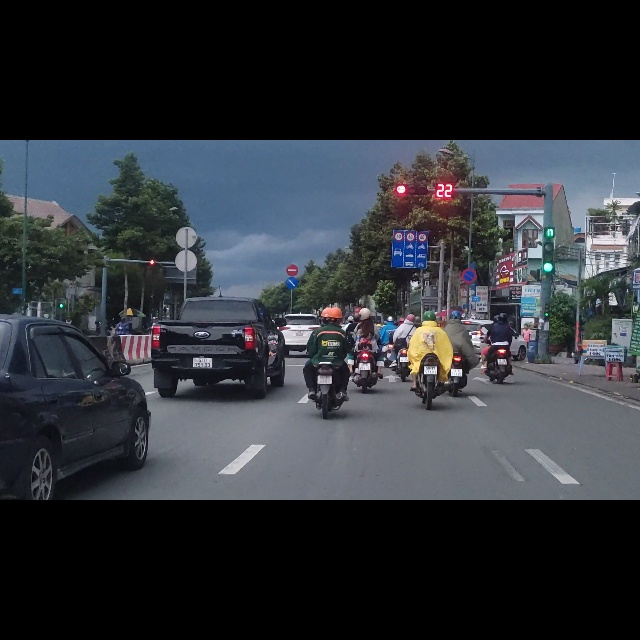bien_cam: (392, 182, 427, 228), (461, 226, 477, 255), (286, 220, 299, 241), (286, 243, 297, 264), (394, 162, 403, 179), (418, 164, 427, 181), (406, 164, 415, 180)
